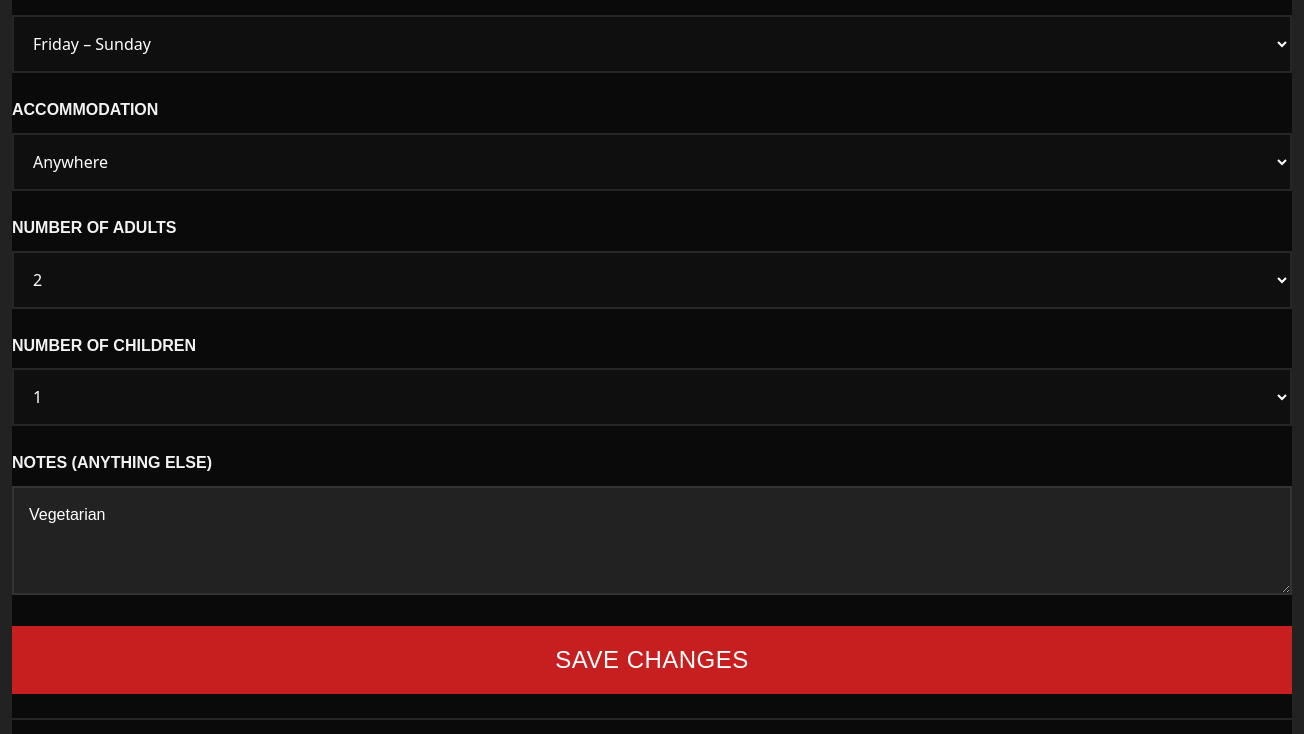
Test: ManageForm › edit form – save › shows validation errors from API on save
(page scrolled)
Click the button "Save Changes" at (652, 660), box [12,626,1292,694]
(page scrolled)
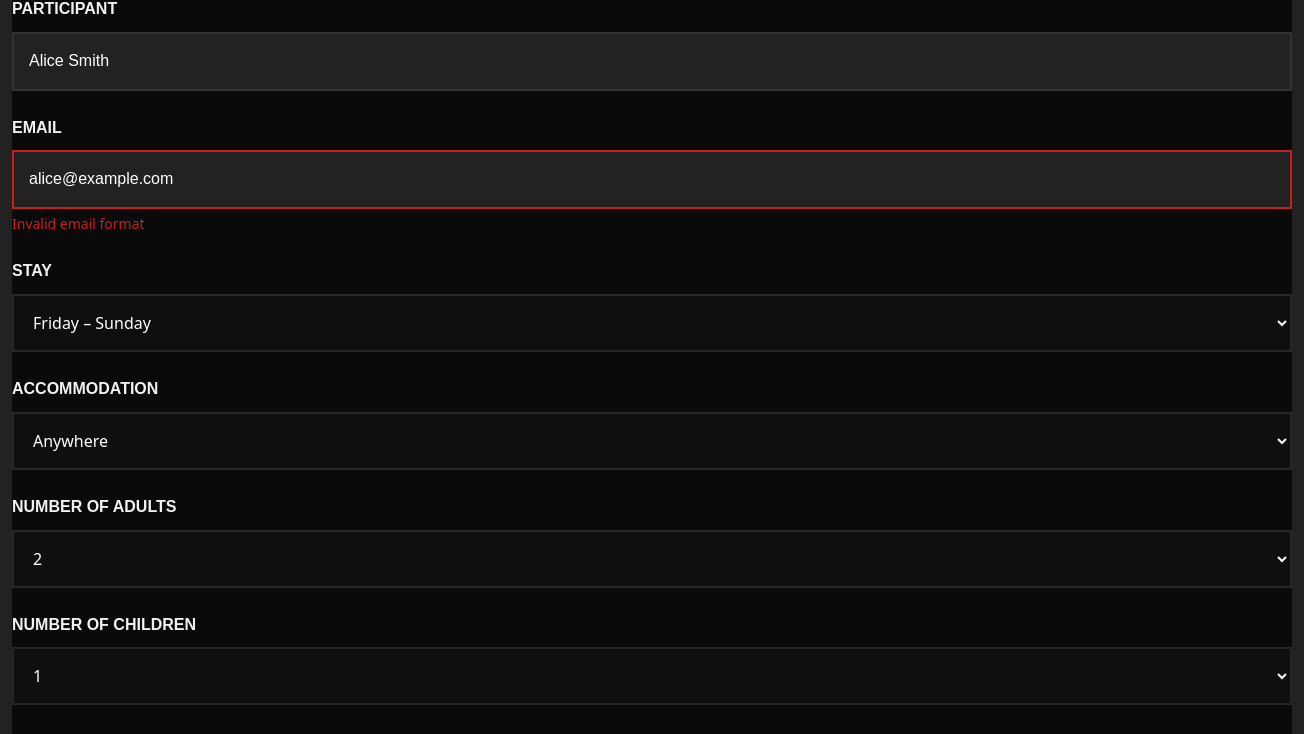
Result: the text "Invalid email format" is shown at [12,214,145,233]
